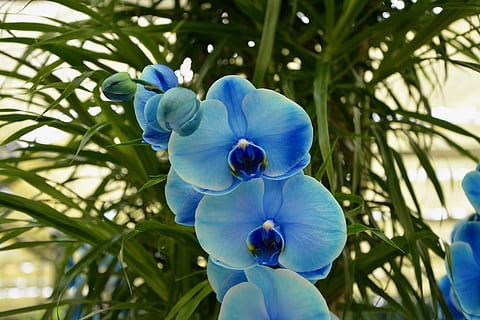orchid: (103, 44, 398, 319)
